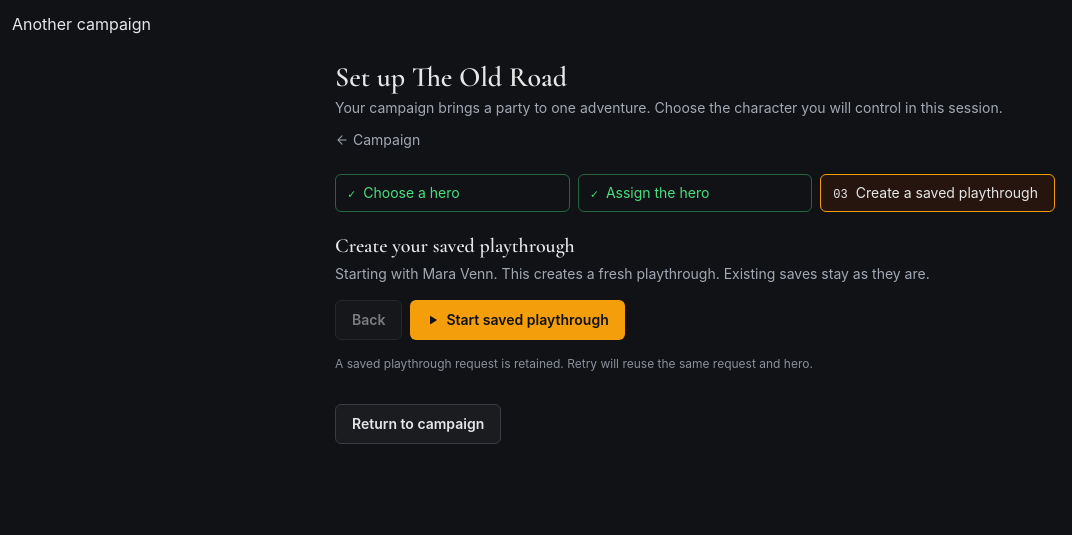
Test case: loads the destination campaign progress when setup route IDs change in place
Click the link to "/campaigns/13/setup".
click(82, 24)  # box [12,14,151,34]
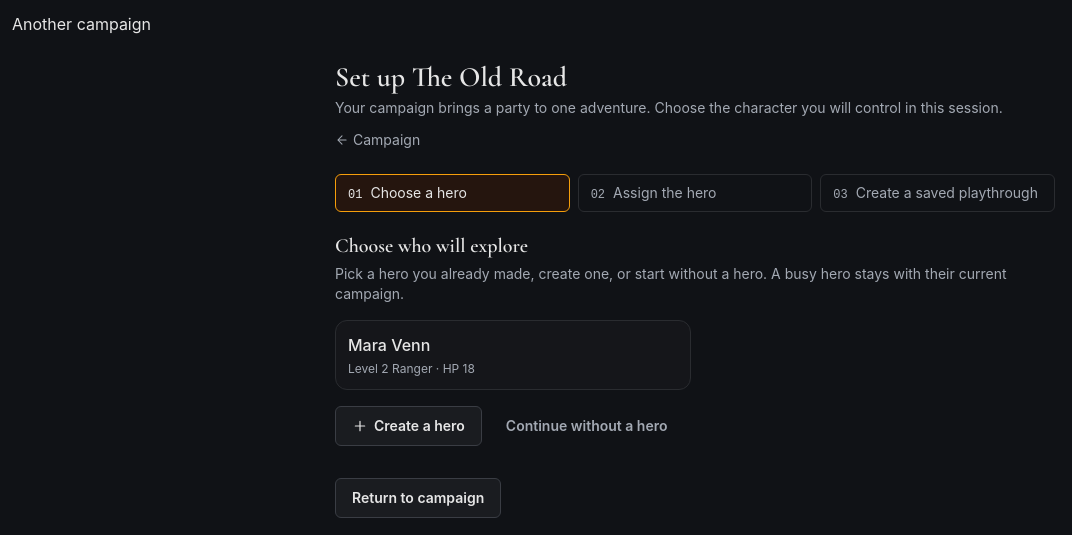
Check: the text "Choose who will explore" is shown, box [335,234,528,258]
Check: the text "A saved playthrough request is retained" is gone
